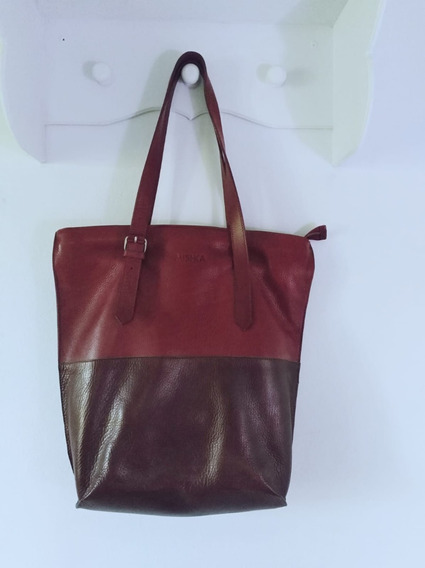cartera: (51, 51, 316, 514)
